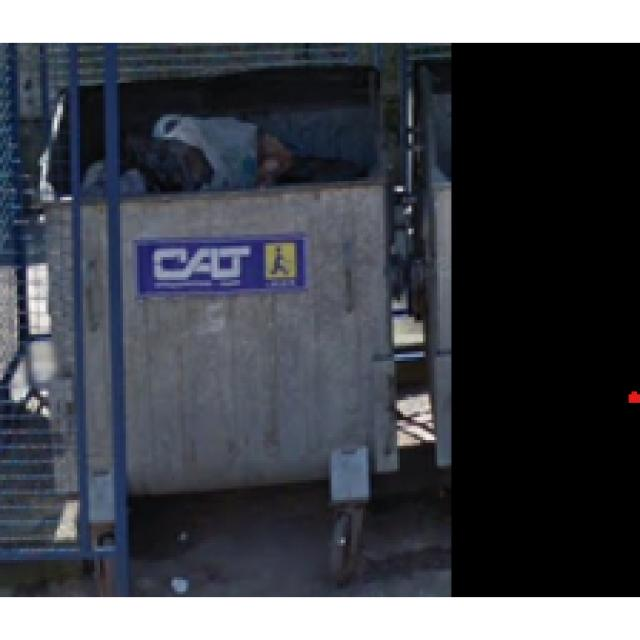general wastetrash bin: (47, 77, 402, 575)
